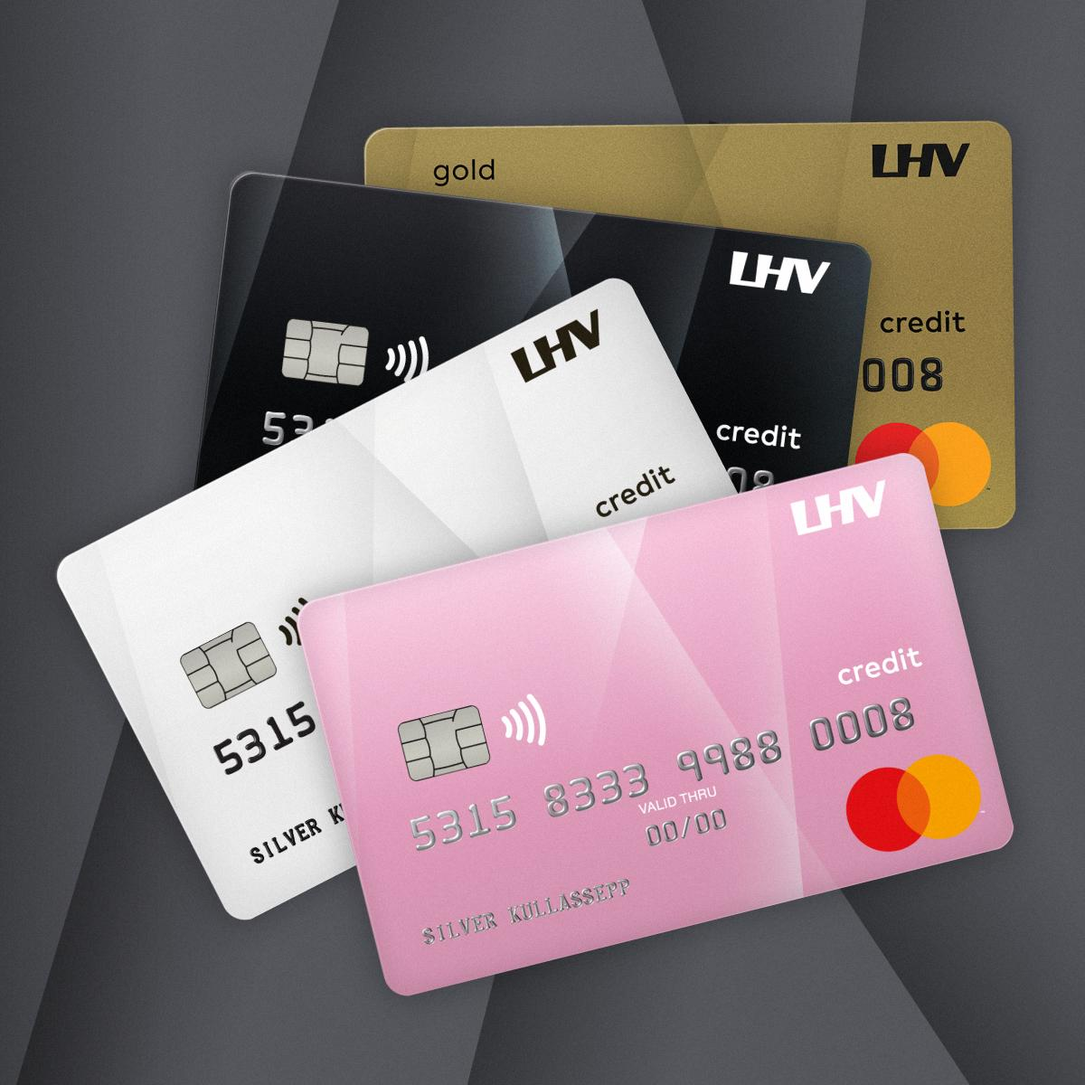Credit_card: (59, 278, 734, 917), (302, 454, 1012, 993)
